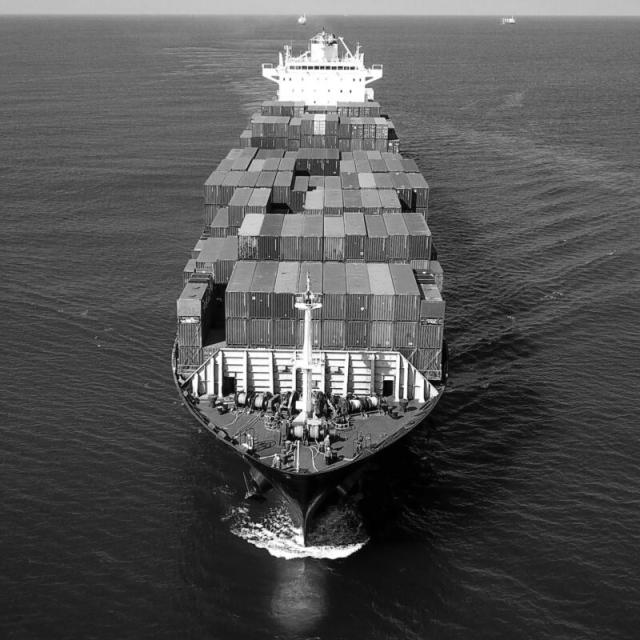Container Ship: (162, 16, 462, 560)
